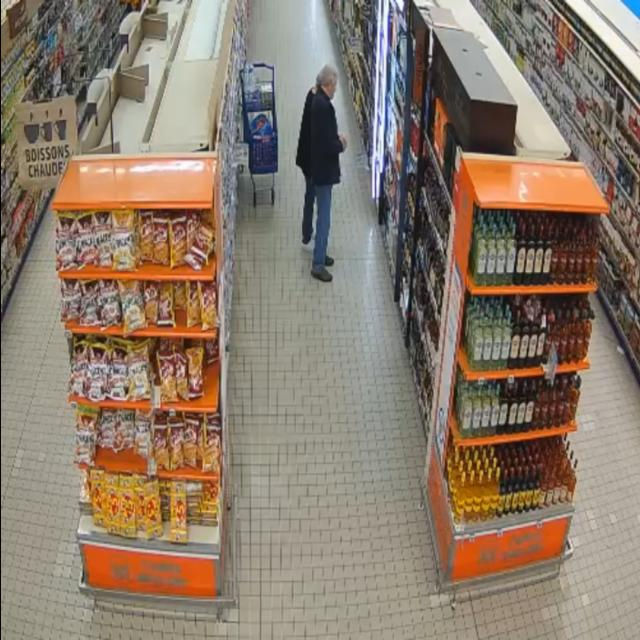hands: (339, 135, 347, 151)
person: (311, 66, 346, 282), (296, 85, 318, 251)
